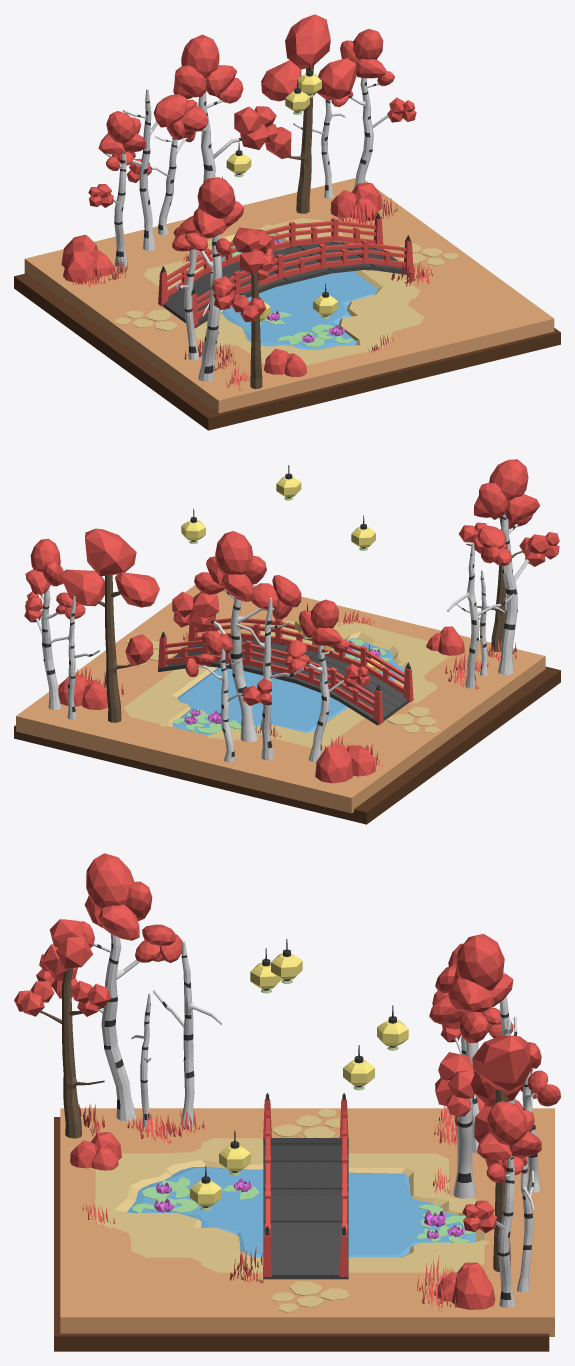
Rendered from Japanese Garden Scene.fbx.
The picture shows the model from 3 angles, top to bottom: view 1: azimuth 30°, elevation 25°; view 2: azimuth 150°, elevation 25°; view 3: azimuth 270°, elevation 25°; orthographic projection. The views are drawn at different scales.
Parts seen in each view (by area): view 1: Cube, Cube.005, Icosphere.016, Circle, Plane.003, Cylinder.005, Cylinder.003, Cylinder.001, Icosphere.010, Icosphere.017, Cylinder.006, Icosphere.018 (+4 smaller); view 2: Cube, Cube.005, Icosphere.016, Circle, Cylinder.005, Plane.003, Cylinder.001, Cylinder.003, Icosphere.001, Icosphere.017, Icosphere.010, Cylinder.006 (+8 smaller); view 3: Cube, Cube.005, Plane.003, Icosphere.016, Cylinder.005, Icosphere.010, Cylinder.003, Circle, Cylinder.004, Icosphere.018, Icosphere.001, Icosphere.002 (+10 smaller).
Boxes of the visible parts, left/top/right/bottom form: Cube: left=14, top=178, right=560, bottom=430; Cube.005: left=158, top=213, right=412, bottom=328; Icosphere.016: left=153, top=34, right=277, bottom=254; Circle: left=261, top=14, right=356, bottom=213; Plane.003: left=221, top=239, right=377, bottom=349; Cylinder.005: left=172, top=177, right=243, bottom=381; Cylinder.003: left=326, top=29, right=416, bottom=188; Cylinder.001: left=88, top=111, right=146, bottom=267; Icosphere.010: left=231, top=227, right=274, bottom=389; Icosphere.017: left=61, top=234, right=114, bottom=282; Cylinder.006: left=103, top=89, right=157, bottom=250; Icosphere.018: left=330, top=182, right=382, bottom=220; Cube: left=14, top=584, right=560, bottom=824; Cube.005: left=158, top=618, right=413, bottom=725; Icosphere.016: left=172, top=531, right=301, bottom=742; Circle: left=62, top=528, right=159, bottom=722; Cylinder.005: left=474, top=459, right=559, bottom=674; Plane.003: left=172, top=638, right=404, bottom=735; Cylinder.001: left=284, top=599, right=369, bottom=762; Cylinder.003: left=24, top=538, right=85, bottom=709; Icosphere.001: left=185, top=630, right=271, bottom=762; Icosphere.017: left=315, top=744, right=375, bottom=783; Icosphere.010: left=459, top=493, right=545, bottom=651; Cylinder.006: left=235, top=597, right=303, bottom=760; Cube: left=54, top=1108, right=554, bottom=1351; Cube.005: left=263, top=1093, right=348, bottom=1279; Plane.003: left=127, top=1167, right=475, bottom=1257; Icosphere.016: left=429, top=933, right=513, bottom=1198; Cylinder.005: left=36, top=853, right=182, bottom=1121; Icosphere.010: left=14, top=919, right=111, bottom=1138; Cylinder.003: left=462, top=1101, right=541, bottom=1307; Circle: left=470, top=1035, right=531, bottom=1271; Cylinder.004: left=153, top=941, right=221, bottom=1126; Icosphere.018: left=434, top=1262, right=495, bottom=1309; Icosphere.001: left=520, top=1042, right=560, bottom=1192; Icosphere.002: left=70, top=1132, right=121, bottom=1170.
Bounding box in the file's own units: 1136 × 701 × 1137.
